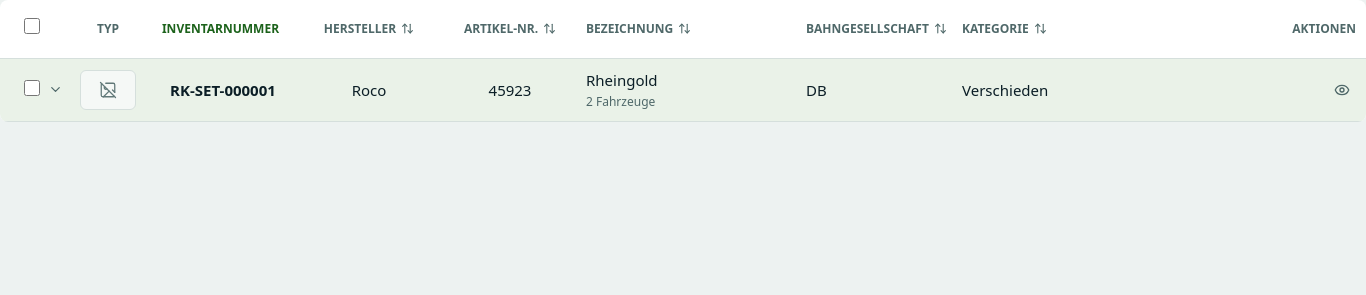
VehicleInventoryTable › renders sets collapsed by default and aligns children after expansion
Expected: the text "RK-SET-000001" is shown, left=170, top=80, right=276, bottom=100
Click the button named "Set aufklappen".
click(54, 90)  # box left=42, top=78, right=66, bottom=102
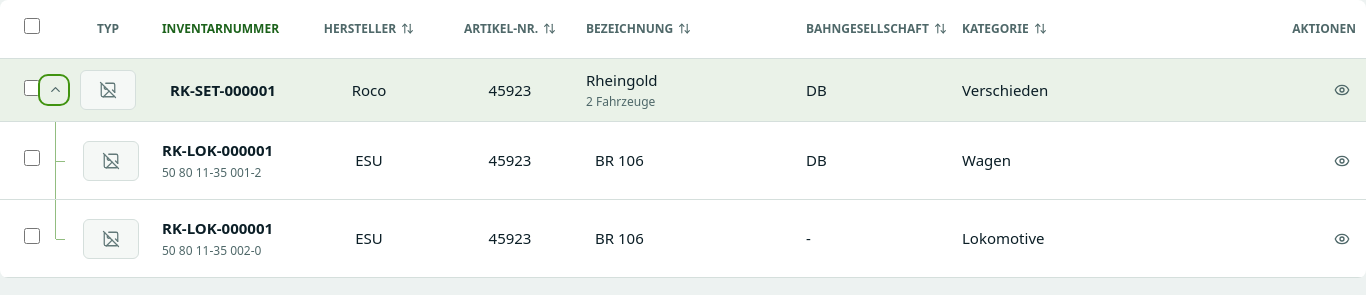
Result: the number of elements named "Keine Vorschau" is 3 at left=80, top=70, right=136, bottom=110; left=83, top=140, right=139, bottom=180; left=83, top=218, right=139, bottom=258
Result: the text "45923" in the row of "50 80 11-35 001-2" is shown at left=488, top=150, right=531, bottom=170
Result: the text "45923" in the row of "50 80 11-35 002-0" is shown at left=488, top=228, right=531, bottom=248
